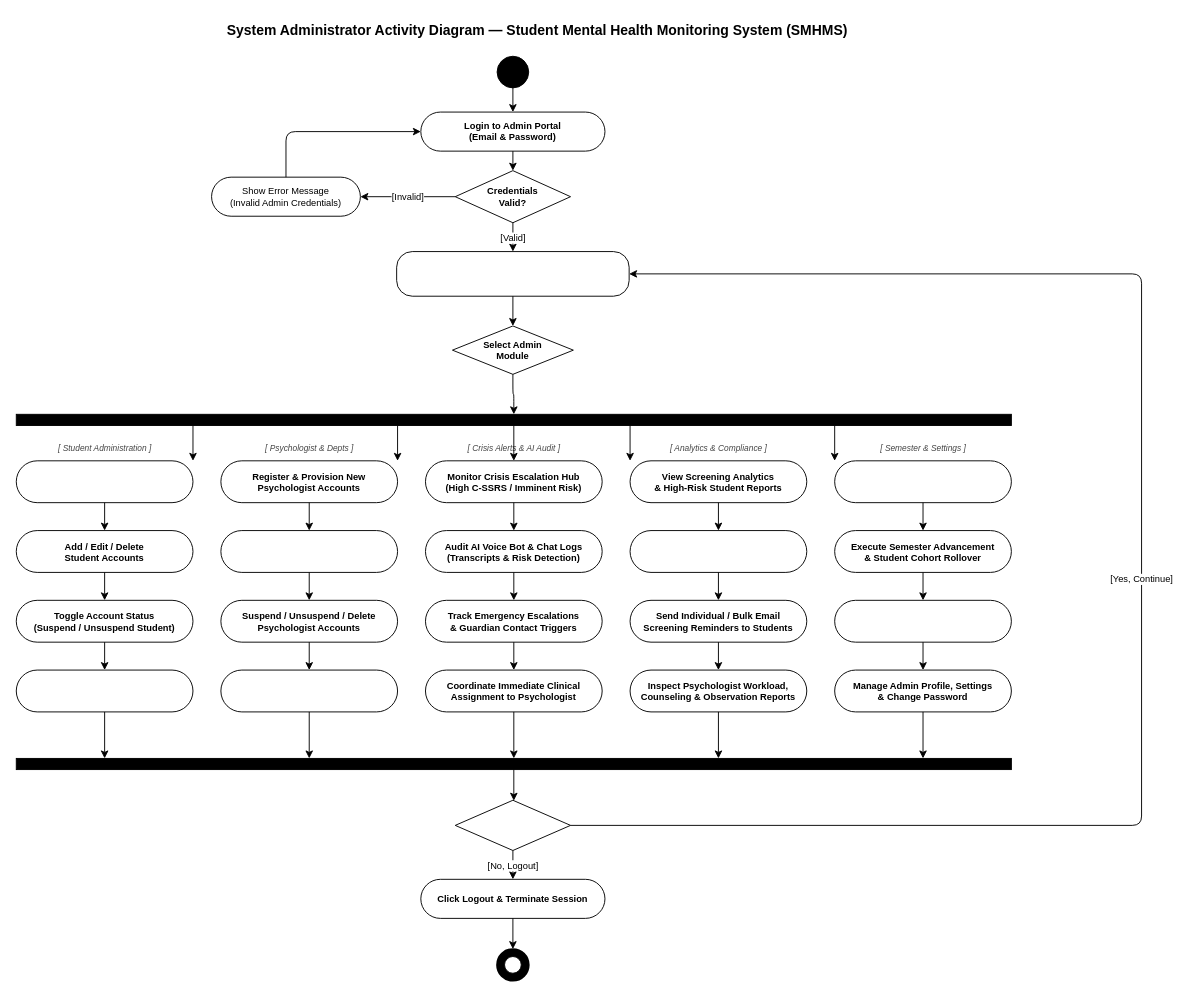
Image size: 1189x997. Some labels were removed from this diagram. The centre of each missing label's shape, as x and y in pixels:
"Access Admin Dashboard (System KPIs, Active Cases & Urgent Alerts)" belongs at point (512, 273).
"Access Semester Management & Transition Center" belongs at point (922, 481).
"Continue Working?" belongs at point (512, 824).
"Generate Semester-End & Academic Admin Reports" belongs at point (922, 620).
"Manage Academic Departments & Toggle Department Status" belongs at point (309, 690).
"Manage Psychologist Details, Specialization & Reset Password" belongs at point (309, 551).
"Manage Student Directory (Filter by Dept & Search)" belongs at point (104, 481).
"Track Screening Compliance Rate (Departmental & Semester-wise)" belongs at point (718, 551).
"View Comprehensive Student Mental Health & Academic File" belongs at point (104, 690).
